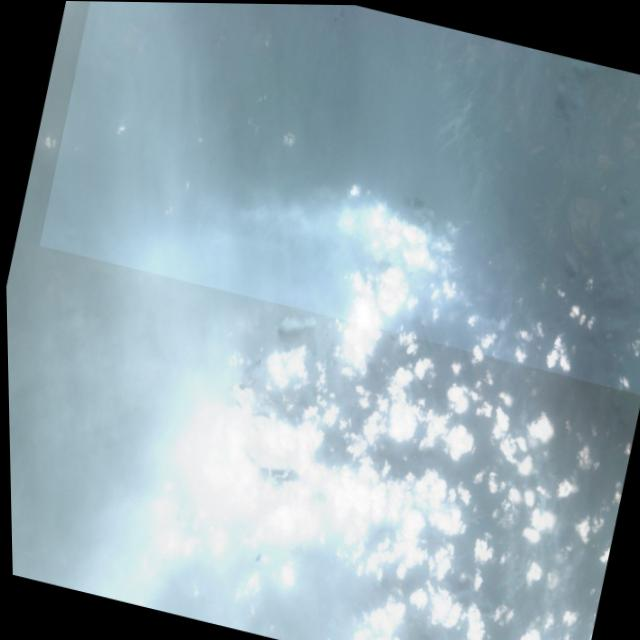fire: (422, 201, 481, 296), (483, 290, 530, 353)
